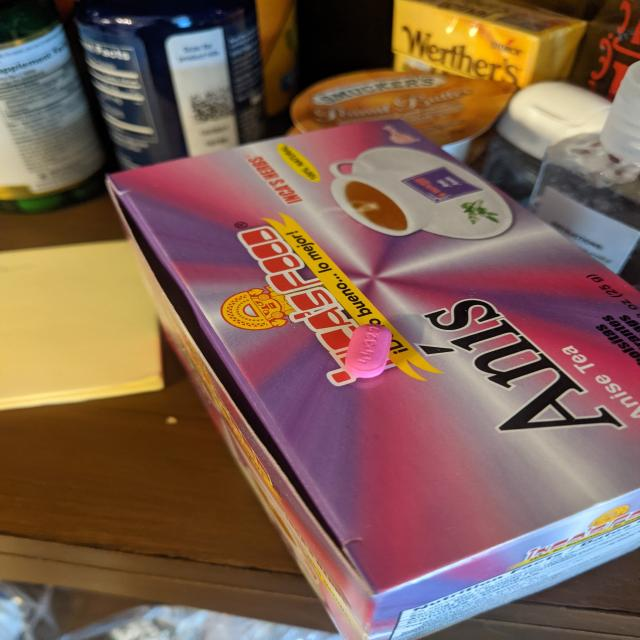non-organic waste: (344, 322, 394, 378)
